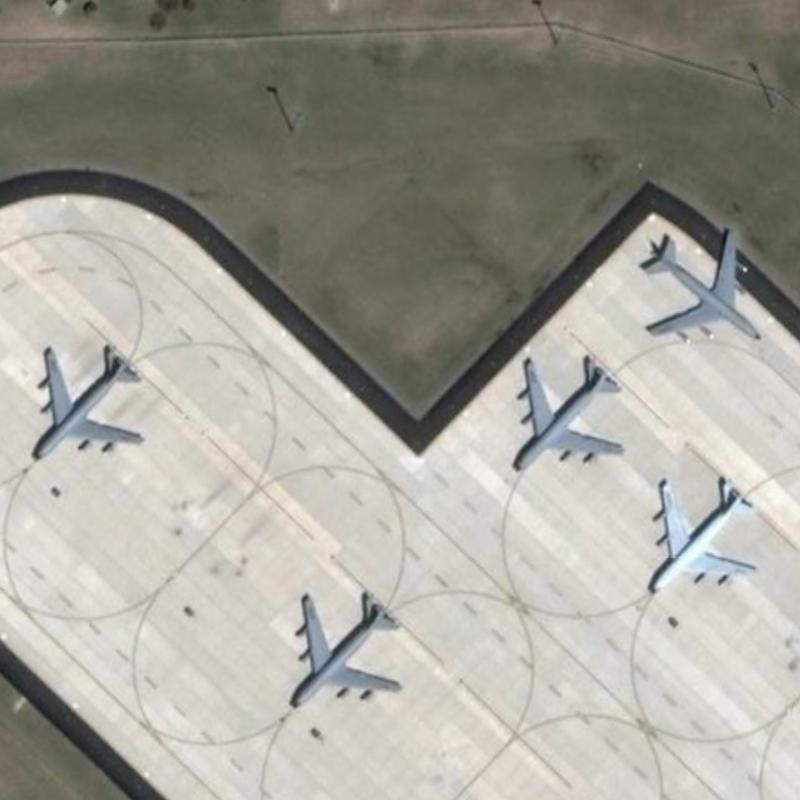A11: (642, 469, 767, 602)
A14: (283, 578, 409, 715), (633, 222, 766, 349), (506, 347, 628, 478), (29, 332, 148, 466)
